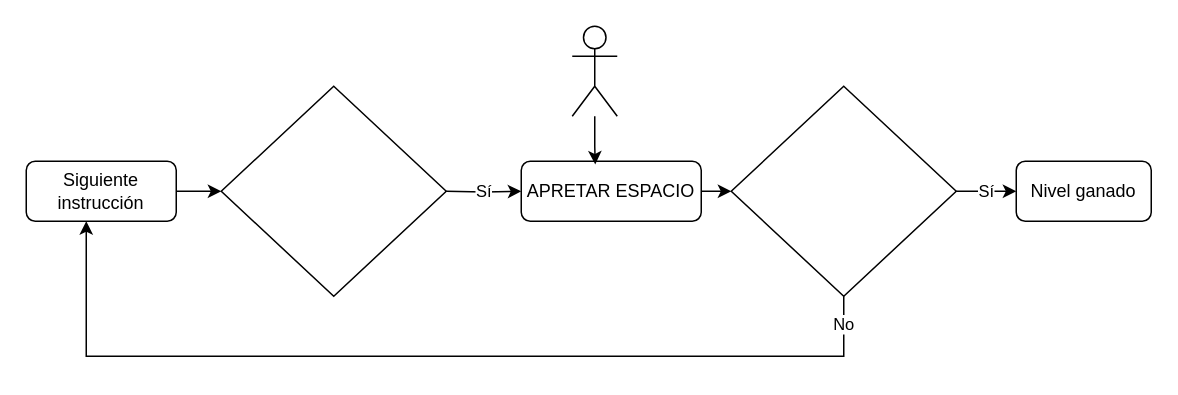
The diagram is 1178 pixels wide and 395 high, and some of its shapes have lost their labels. Here are the shapes that lost their labels. From the top down, the centre of each, then its label:
At point 333,190: "¿Instrucción finalizada?".
At point 843,190: "¿Instrucción final?".
